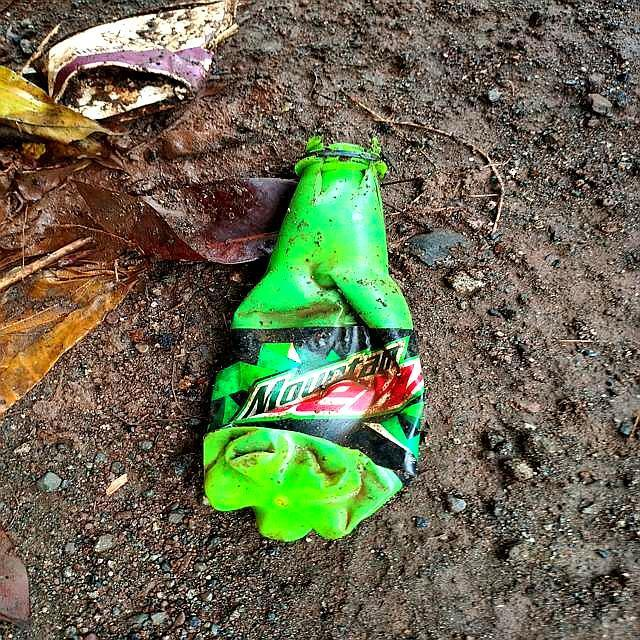Non-biodegradable: (203, 133, 431, 539)
